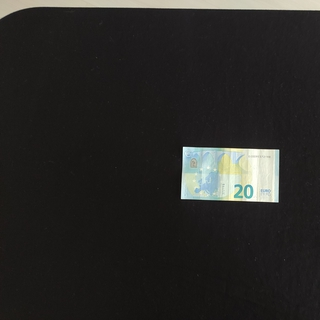20EUROBack: (180, 146, 279, 203)
